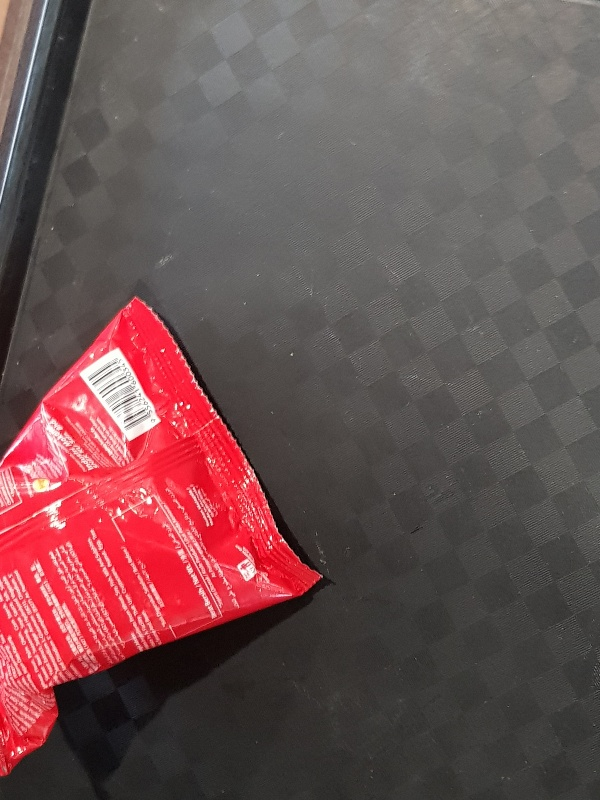ShoyueMi Spicy Flavoured Snacks: (1, 293, 323, 777)
